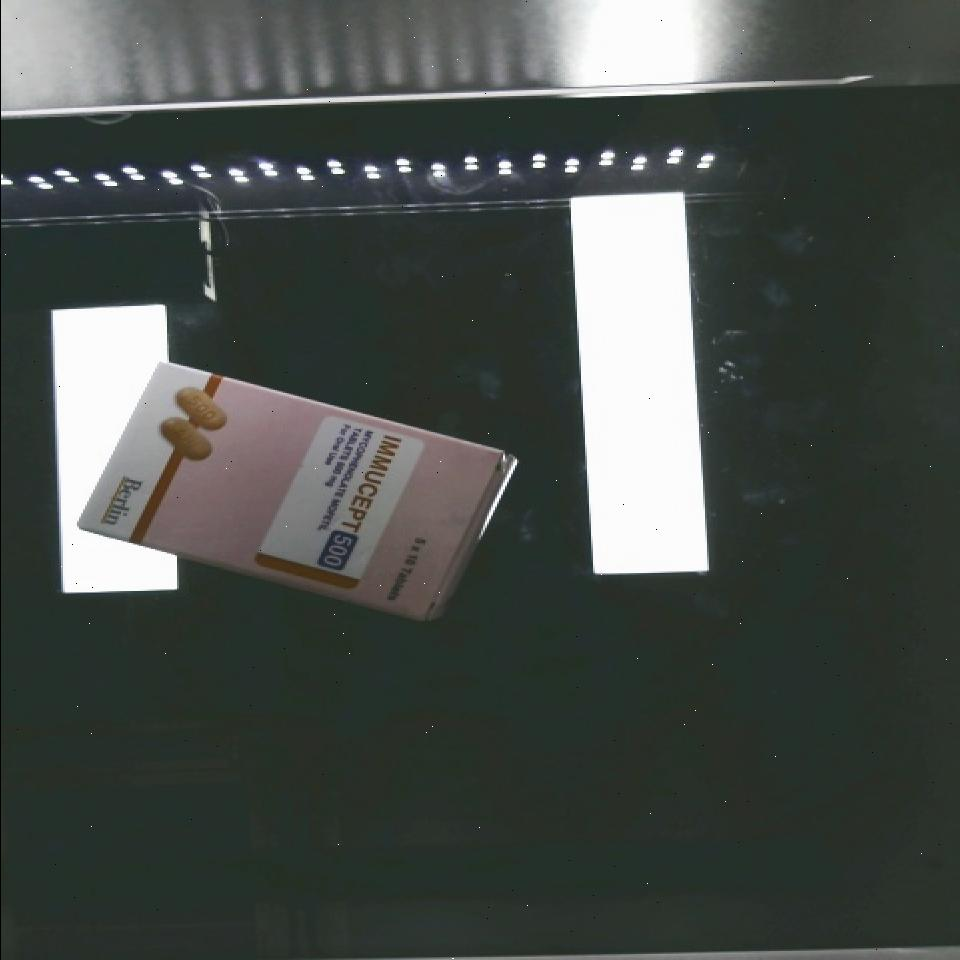medicine_box: (70, 352, 509, 631)
medicine_label_obb: (299, 415, 426, 599)
